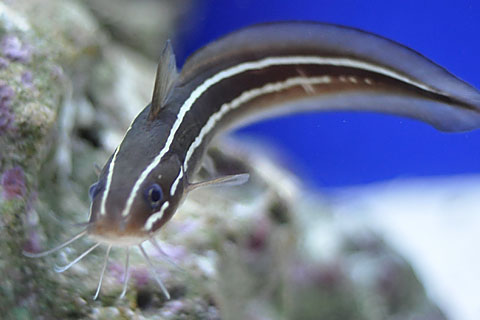gonzui: (67, 22, 480, 272)
